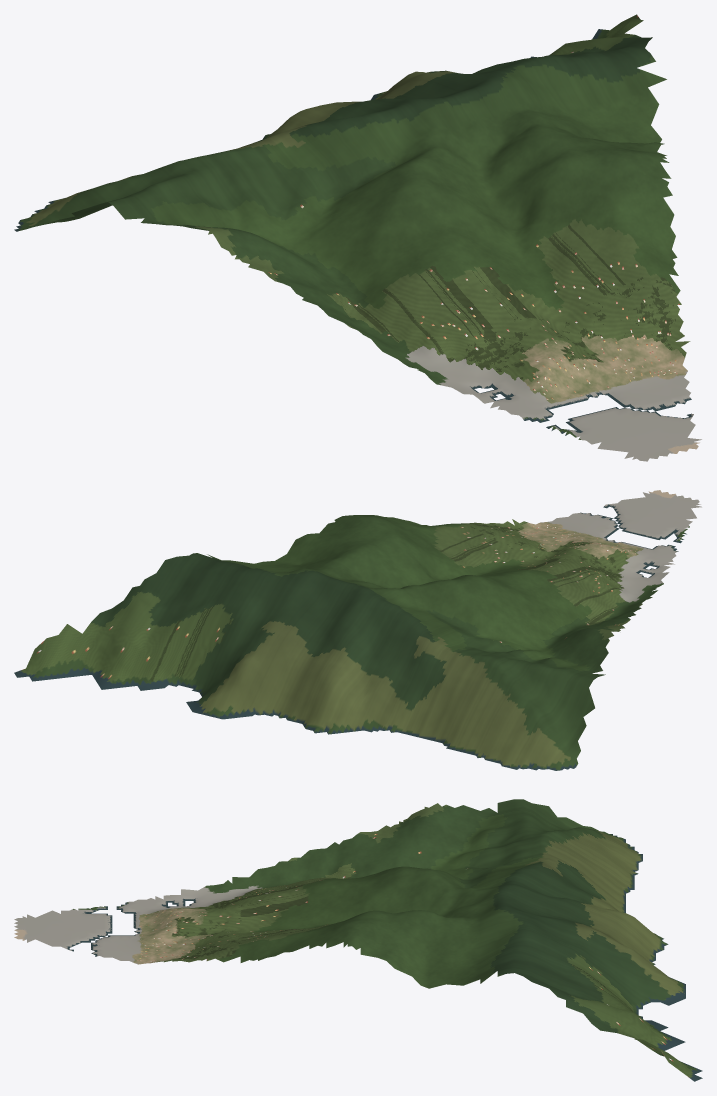
Rendered from SM_Fondale_Colline_SO.fbx.
3 renders of one model, top to bottom at view 1: azimuth 30°, elevation 25°; view 2: azimuth 150°, elevation 25°; view 3: azimuth 270°, elevation 25°, orthographic. The views are drawn at different scales.
Parts seen in each view (by area): view 1: SM_Fondale_Colline_SO; view 2: SM_Fondale_Colline_SO; view 3: SM_Fondale_Colline_SO.
Boxes of the visible parts, x1,y1,x2,y2 form: SM_Fondale_Colline_SO: (14,14,701,461); SM_Fondale_Colline_SO: (14,490,701,770); SM_Fondale_Colline_SO: (14,799,702,1081).
Size of the model in its own units: 411000 by 483000 by 60027.
Materials: 1 (1 with a texture image).
